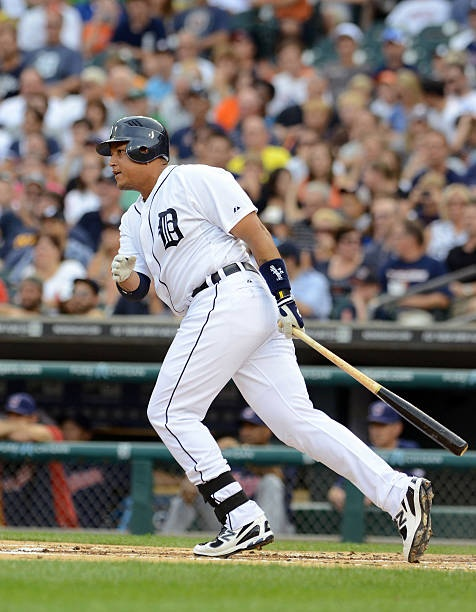bita: (281, 323, 466, 454)
